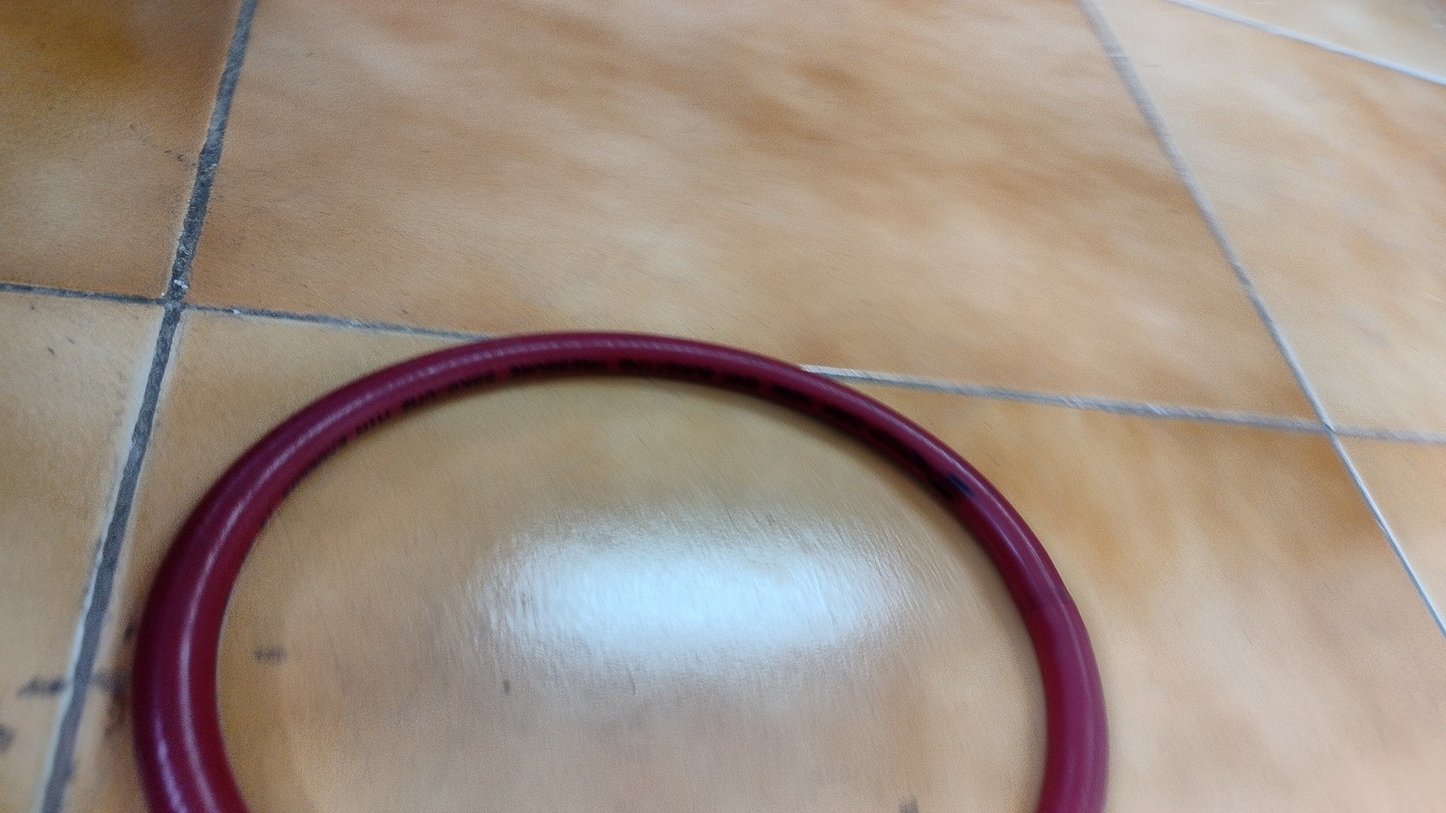Red ring: (135, 334, 1112, 813)
